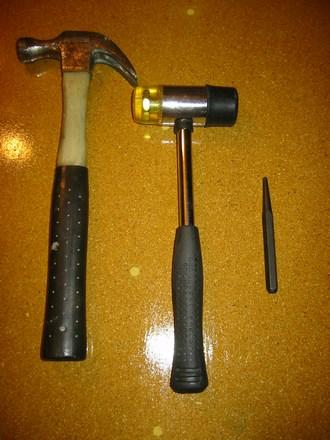hammer: (14, 28, 138, 362)
